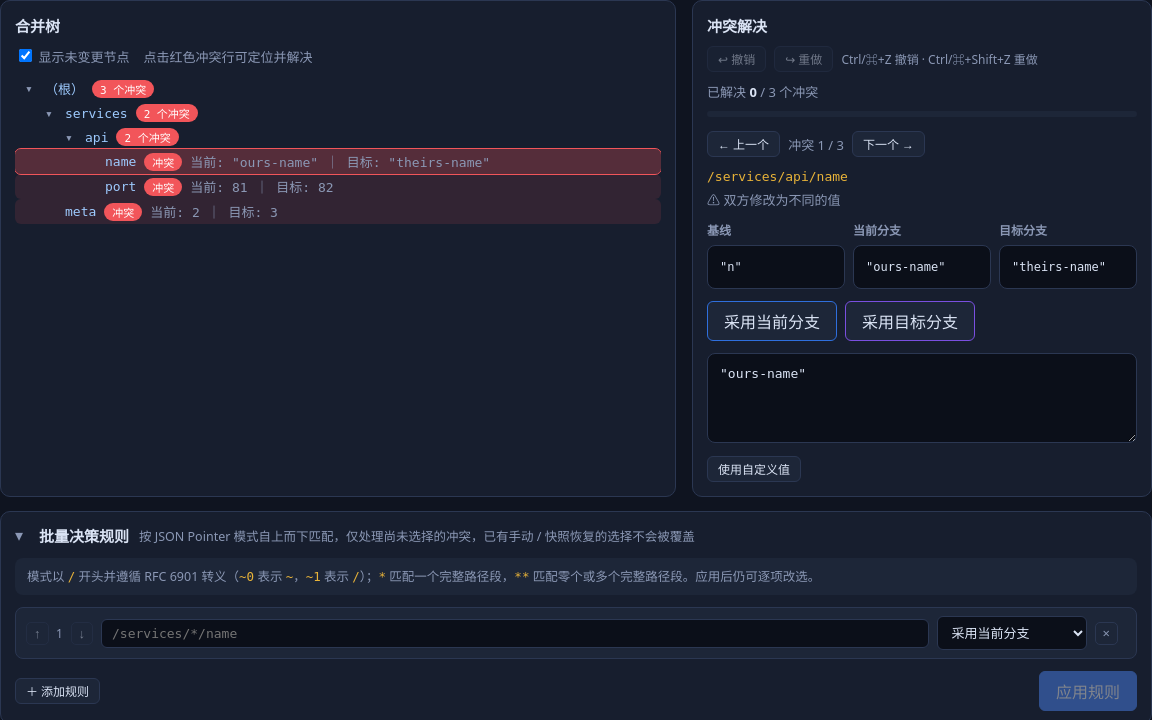
Test case: MergeStage 撤销 / 重做 › 撤销后产生新决策清空重做分支
This screenshot has width=1152, height=720.
Click the button "采用当前分支" at (772, 321), box [707,301,837,341]
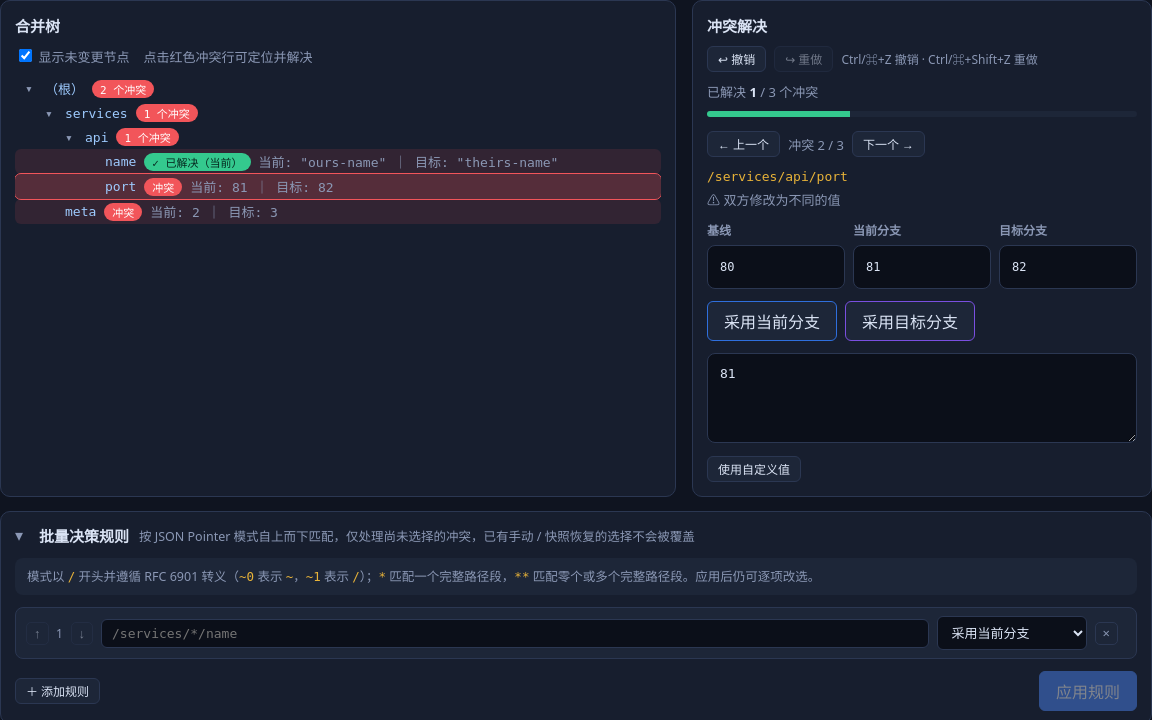
Click the button "↩ 撤销" at (737, 59), box [707,46,766,72]
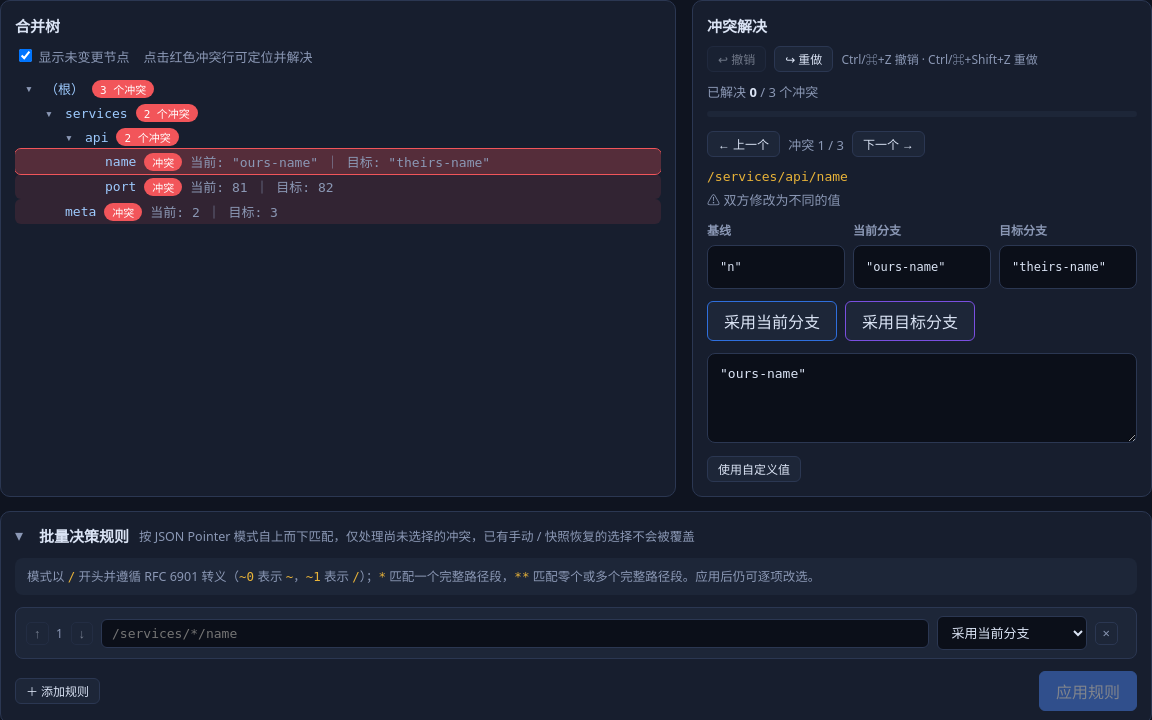
expect the button "↪ 重做" is enabled: met, box [774,46,833,72]
Click the button "采用目标分支" at (910, 321), box [845,301,975,341]
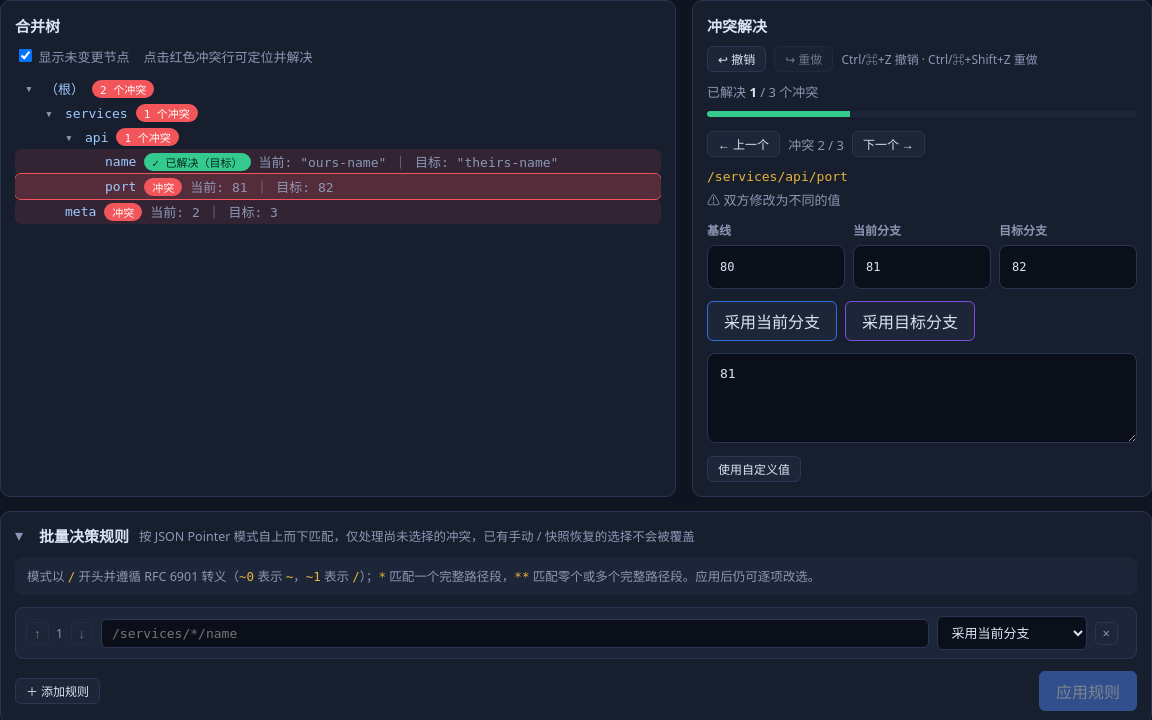
expect the button "↪ 重做" is disabled: met, box [774,46,833,72]
